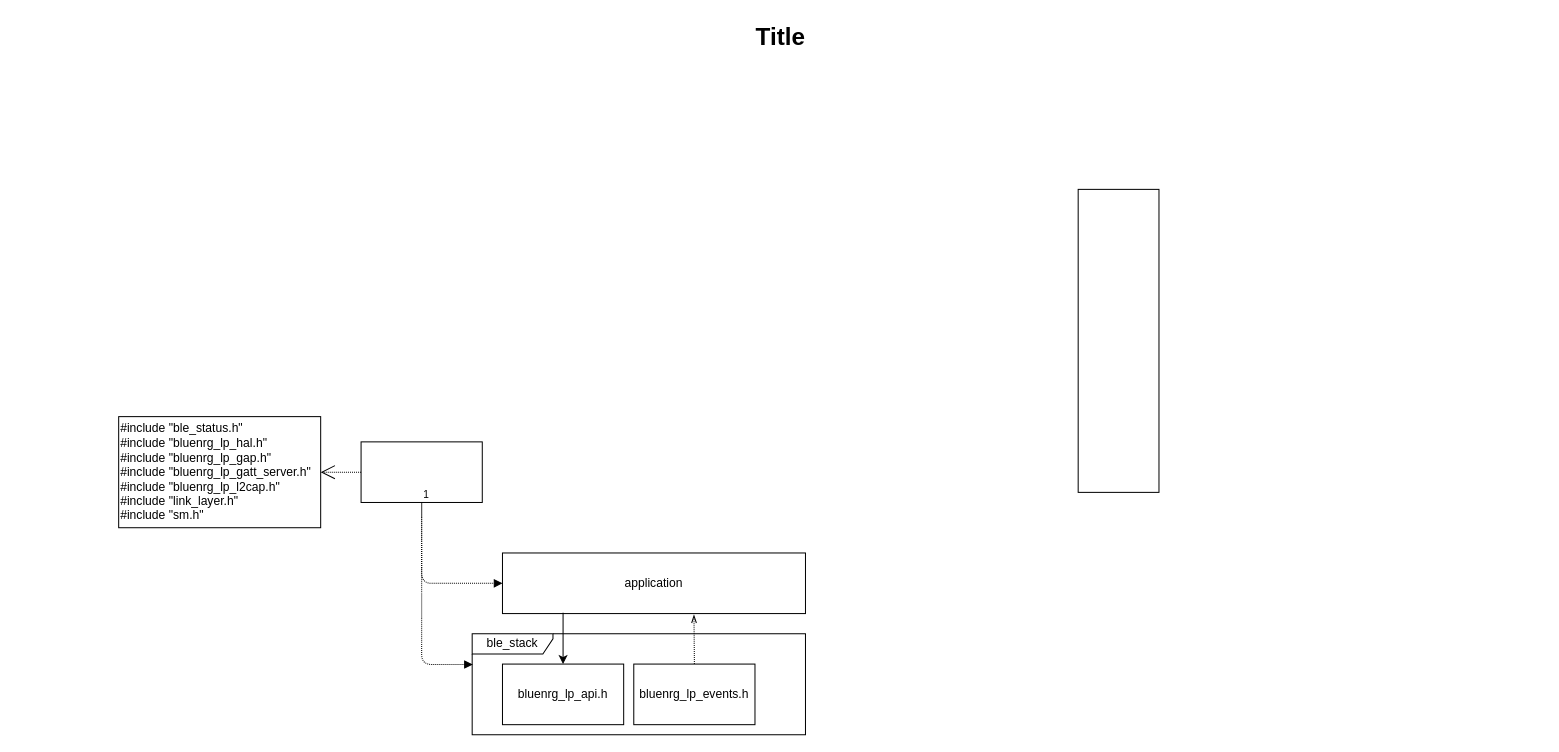
Image size: 1559x752. Some labels were removed from this diagram. The shapes that lost their labels are listed below. From the top down, each one's box as (x1, y1, x2, y2) in pixels, then its label:
(1077, 188, 1159, 492): main
(360, 441, 482, 502): ble_const.h
